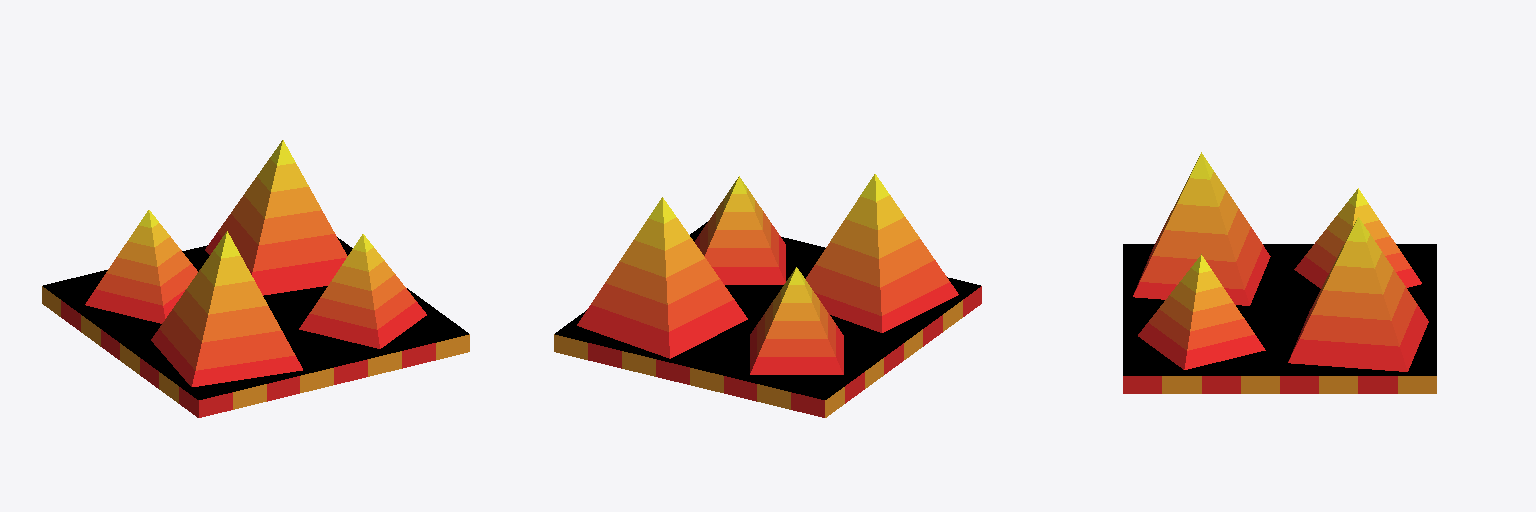
3 renders of one model, left to right at view 1: azimuth 30°, elevation 25°; view 2: azimuth 150°, elevation 25°; view 3: azimuth 270°, elevation 25°, orthographic.
Visible parts, largest first — view 1: Base, Spike1.003, Spike1, Spike1.002, Spike1.001; view 2: Base, Spike1, Spike1.003, Spike1.001, Spike1.002; view 3: Base, Spike1, Spike1.003, Spike1.002, Spike1.001.
Part boxes in pixels (x1,y1,x2,y2): Base: (42,237,469,417); Spike1.003: (151,231,302,386); Spike1: (205,140,347,295); Spike1.002: (299,234,426,348); Spike1.001: (85,210,197,323); Base: (554,222,981,417); Spike1: (577,197,747,358); Spike1.003: (806,174,958,332); Spike1.001: (750,267,843,374); Spike1.002: (695,176,785,284); Base: (1123,244,1436,393); Spike1: (1288,217,1428,371); Spike1.003: (1133,152,1270,305); Spike1.002: (1138,254,1265,369); Spike1.001: (1294,188,1421,288).
Bounding box in the file's own units: 1.6 × 0.808 × 1.6.
Materials: 1 (1 with a texture image).